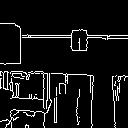cube: (0, 15, 27, 69), (66, 22, 93, 57)
